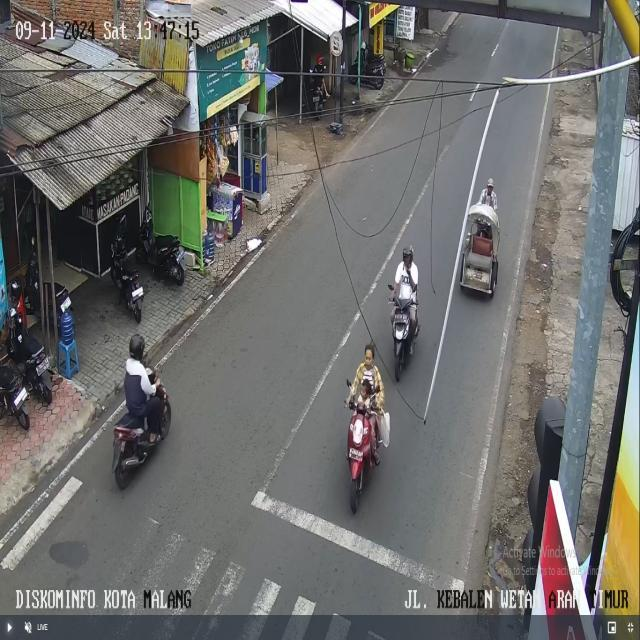Helmet: (129, 334, 144, 360), (9, 279, 21, 300), (402, 245, 413, 259), (316, 54, 324, 64), (487, 178, 493, 186)
Number Plate: (13, 387, 27, 407), (36, 357, 50, 376), (60, 296, 70, 312), (349, 447, 362, 459), (132, 287, 143, 299), (395, 314, 405, 322), (313, 96, 319, 102)
